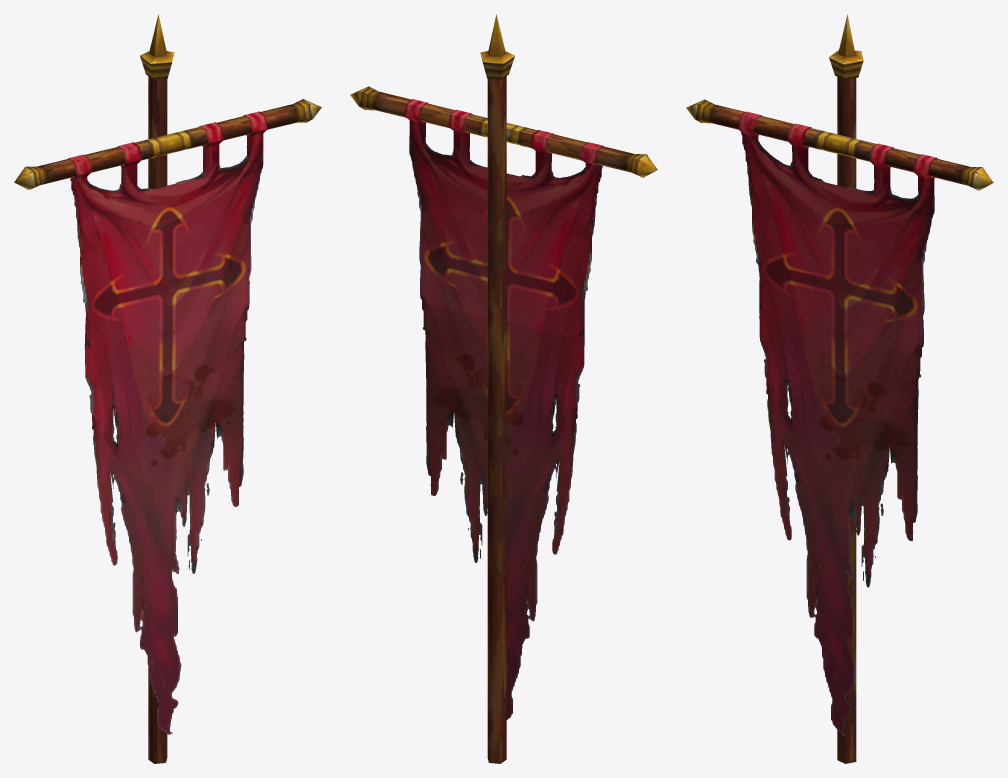
Rendered from 2_Loading_QiZhi_01_01.FBX.
3 renders of one model, left to right at view 1: azimuth 30°, elevation 25°; view 2: azimuth 150°, elevation 25°; view 3: azimuth 330°, elevation 25°, orthographic.
Parts seen in each view (by area): view 1: 2_Loading_QiZhi_01_01, 2_Loading_QiZhi_01_02; view 2: 2_Loading_QiZhi_01_01, 2_Loading_QiZhi_01_02; view 3: 2_Loading_QiZhi_01_01, 2_Loading_QiZhi_01_02.
Boxes of the visible parts, <box> form: 2_Loading_QiZhi_01_01: <box>14,99,321,734</box>; 2_Loading_QiZhi_01_02: <box>140,14,174,763</box>; 2_Loading_QiZhi_01_01: <box>350,86,657,719</box>; 2_Loading_QiZhi_01_02: <box>480,14,514,763</box>; 2_Loading_QiZhi_01_01: <box>686,99,993,736</box>; 2_Loading_QiZhi_01_02: <box>829,14,863,763</box>.
Bounding box in the file's own units: 342 × 791 × 45.22.
Materials: 1 (1 with a texture image).
